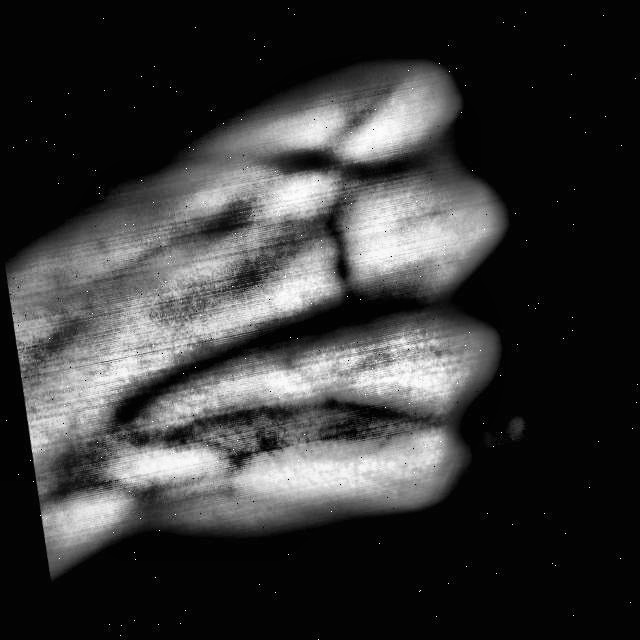Vein: (135, 307, 312, 408)
